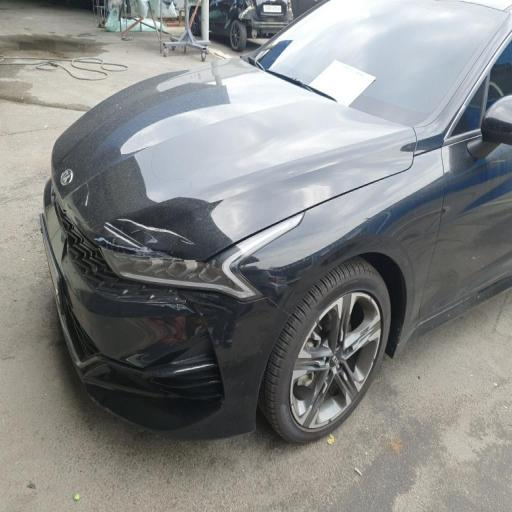scratch: (68, 184, 259, 416)
